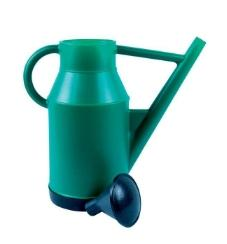ARROSOIR: (20, 28, 210, 234)
